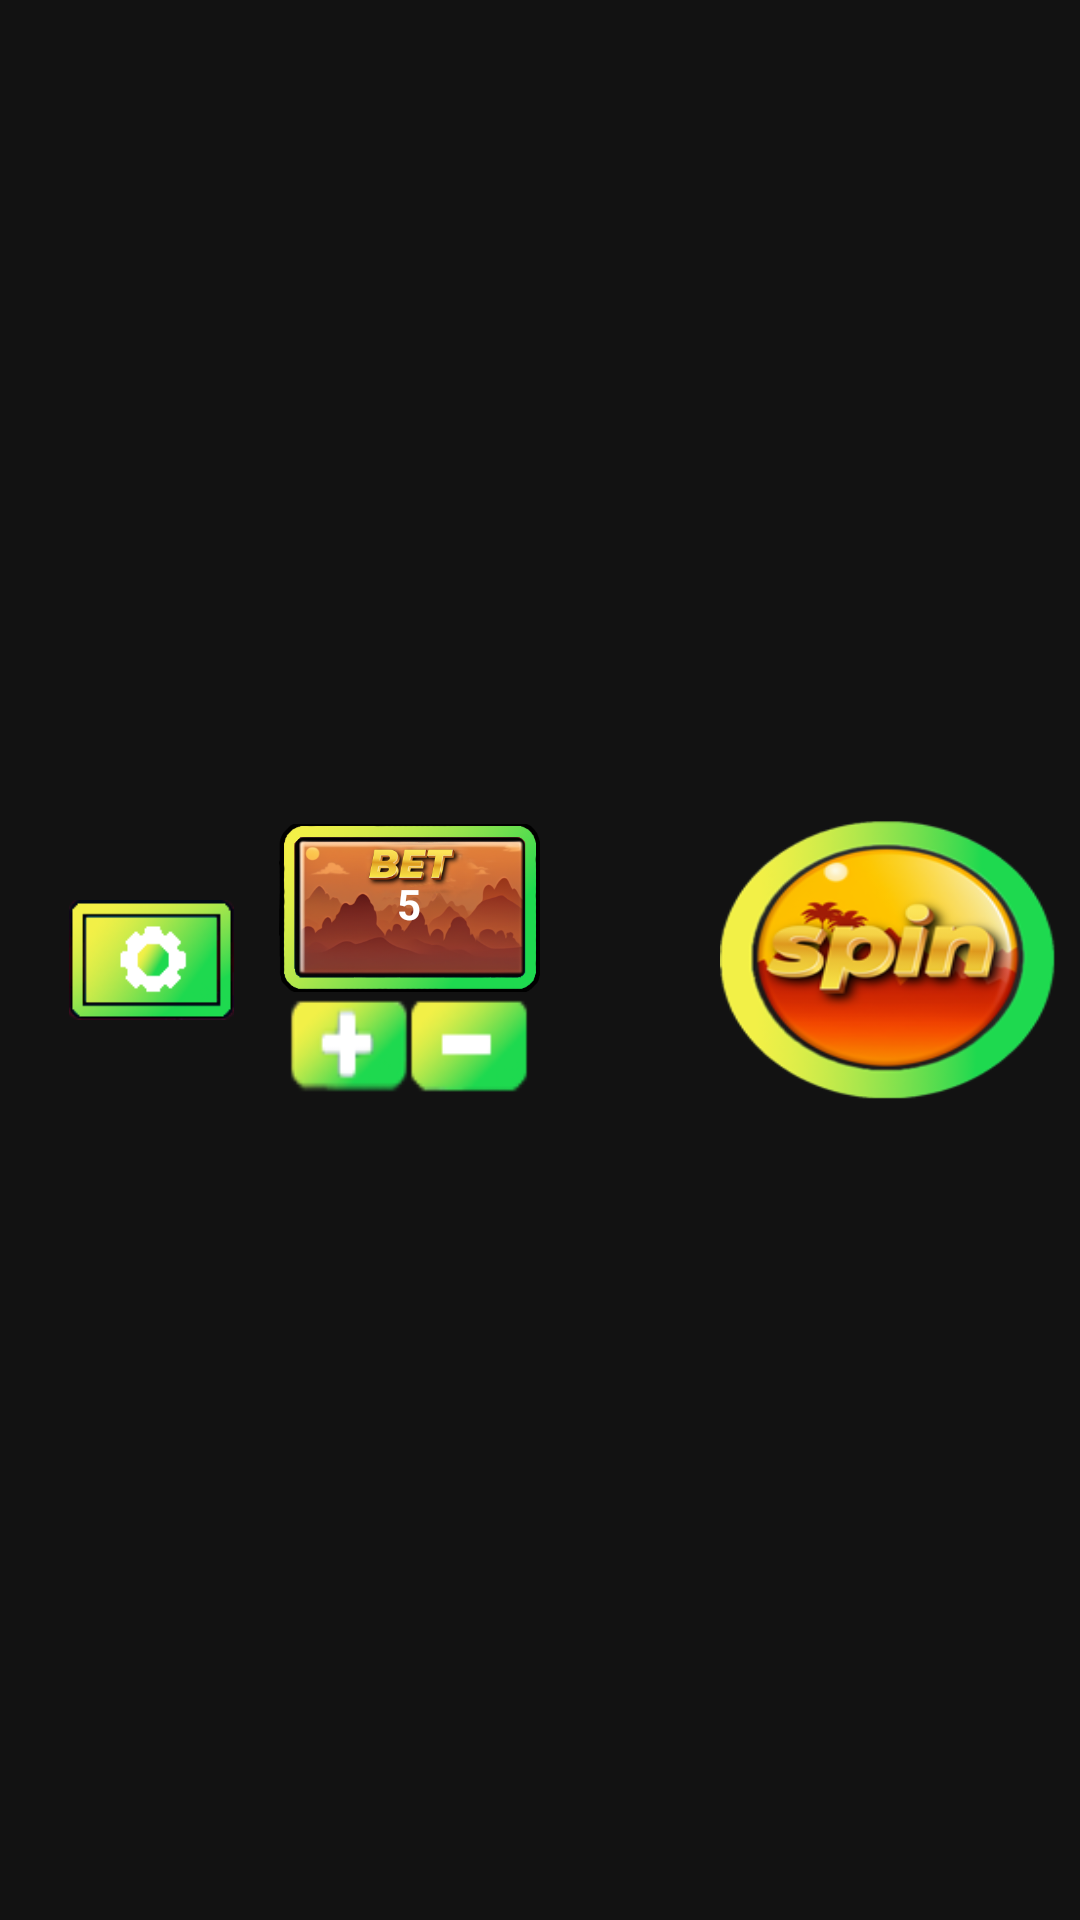

Icons on this 1080×1920 Android screen, each with its box as BBox(x1, y1, x2, y2):
minus: BBox(411, 1001, 527, 1092)
plus: BBox(291, 1001, 407, 1091)
settings: BBox(69, 902, 234, 1020)
